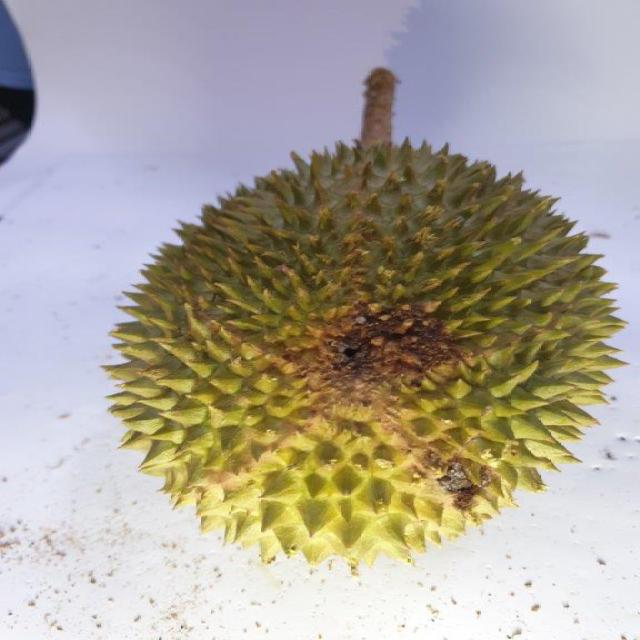defective: (99, 136, 634, 571)
